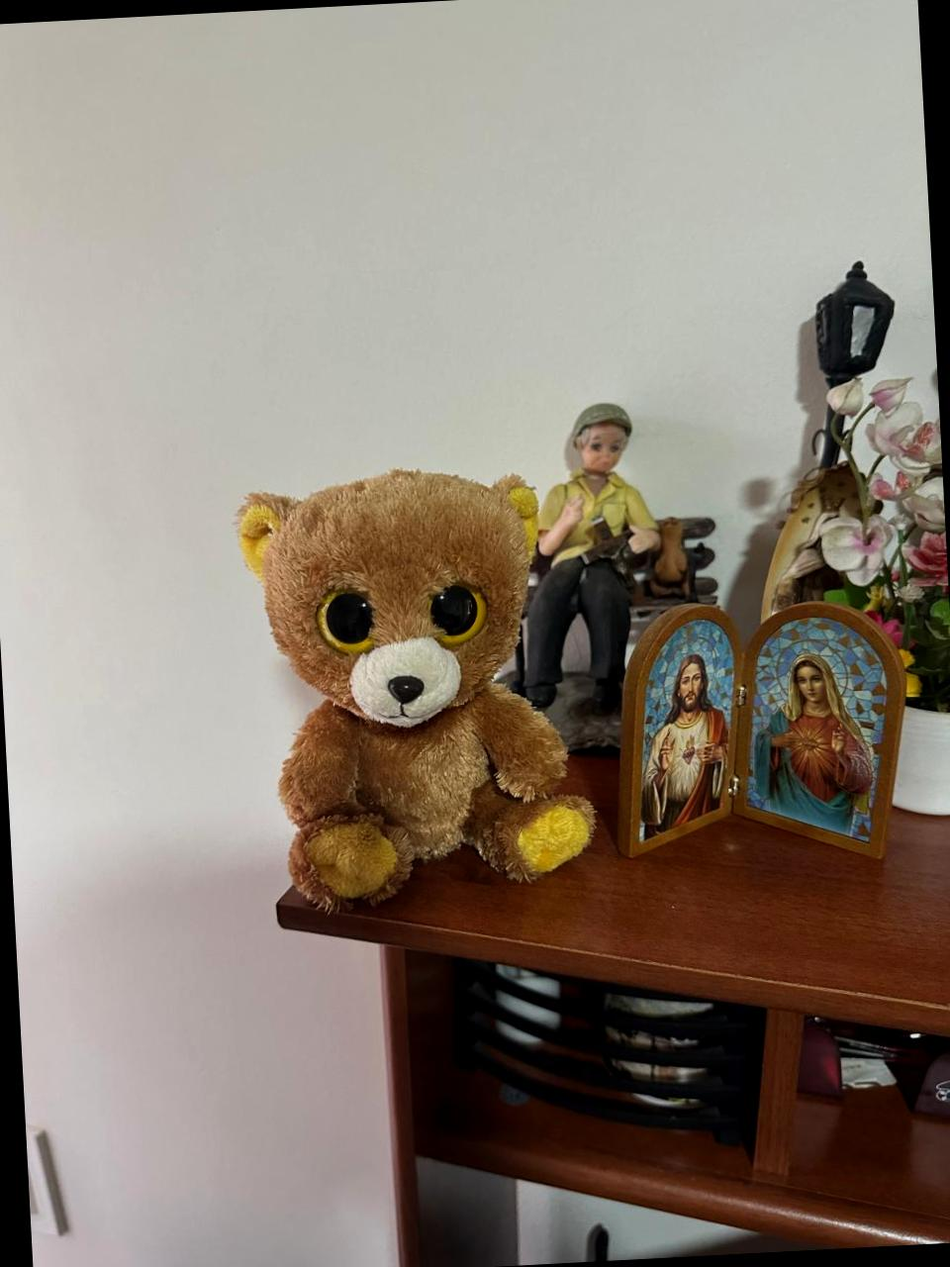peluche_sebastian: (214, 455, 595, 914)
